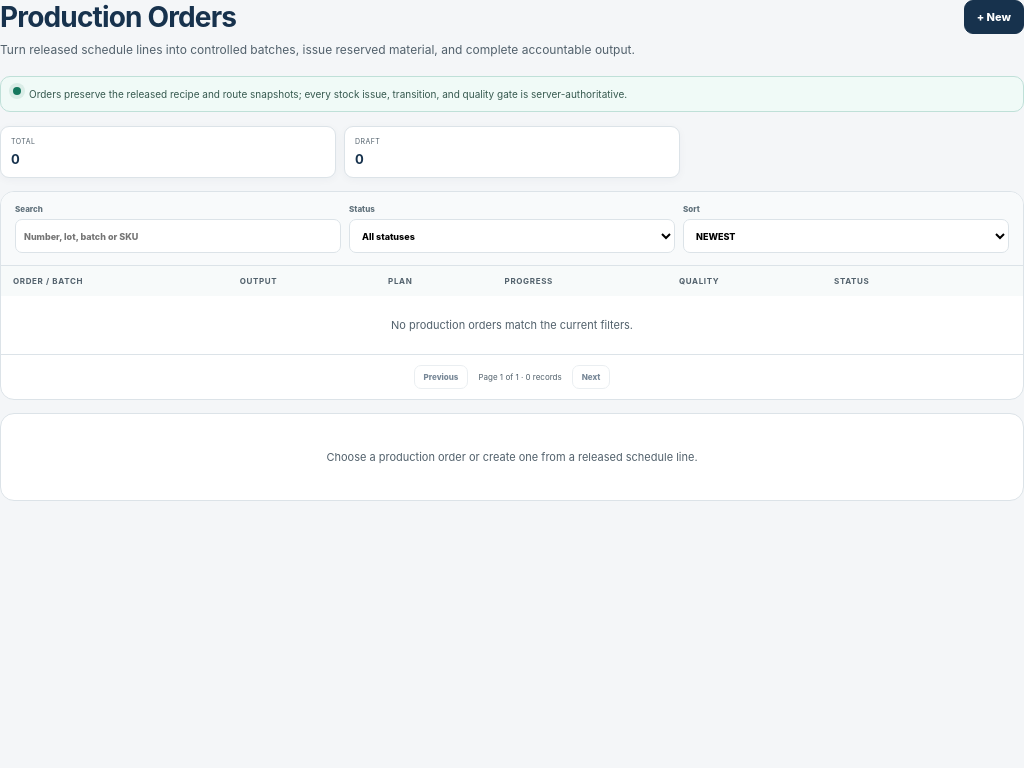
production execution workspaces › creates a scheduled production order and releases it
This screenshot has width=1024, height=768.
Click the button "+ New". click: (994, 17)
box: 964,0 -> 1023,34
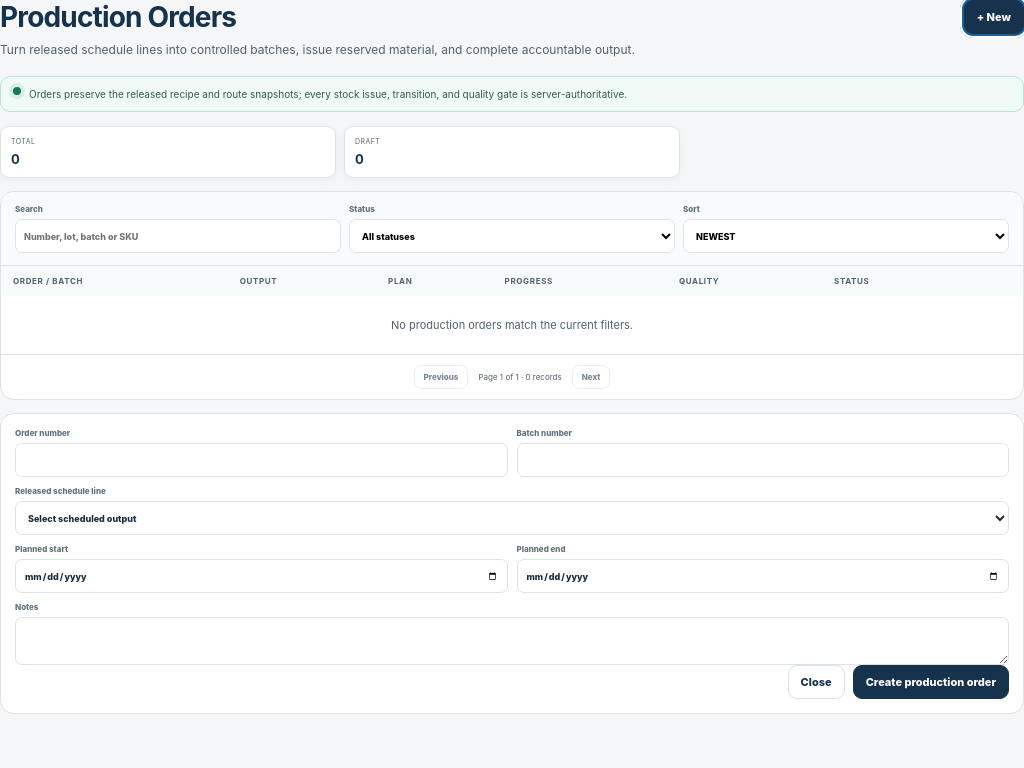
Type "pro-ui-001" into the field labelled "Order number". click: (261, 460)
box: 15,443 -> 508,477
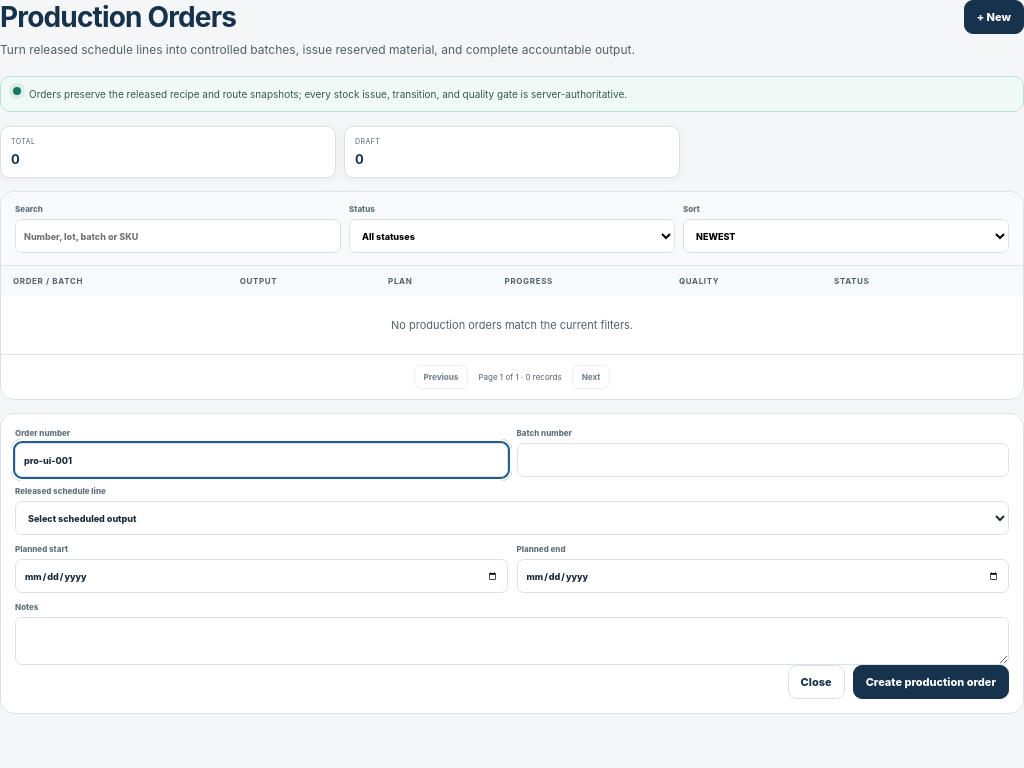
Type "batch-ui-001" into the field labelled "Batch number". click: (763, 460)
box: 516,443 -> 1009,477
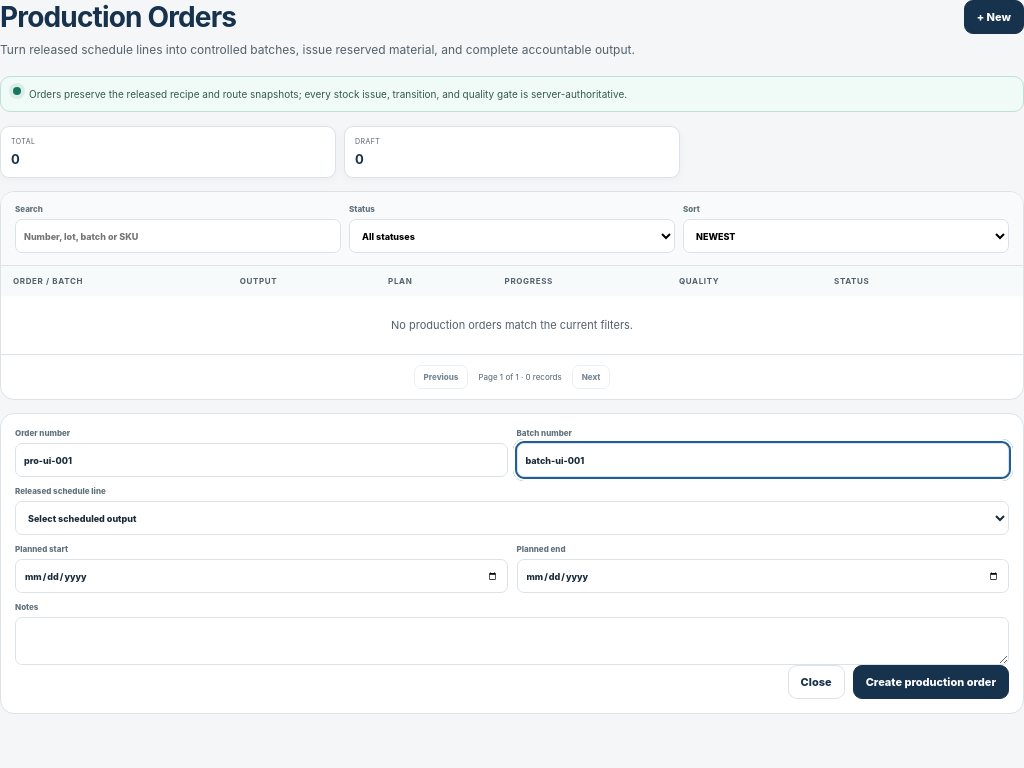
Select "SCH-UI-001/1 · SKU-APPLE-100 · 100 PACK" in the dropdown labelled "Released schedule line". click: (512, 518)
box: 15,501 -> 1009,535
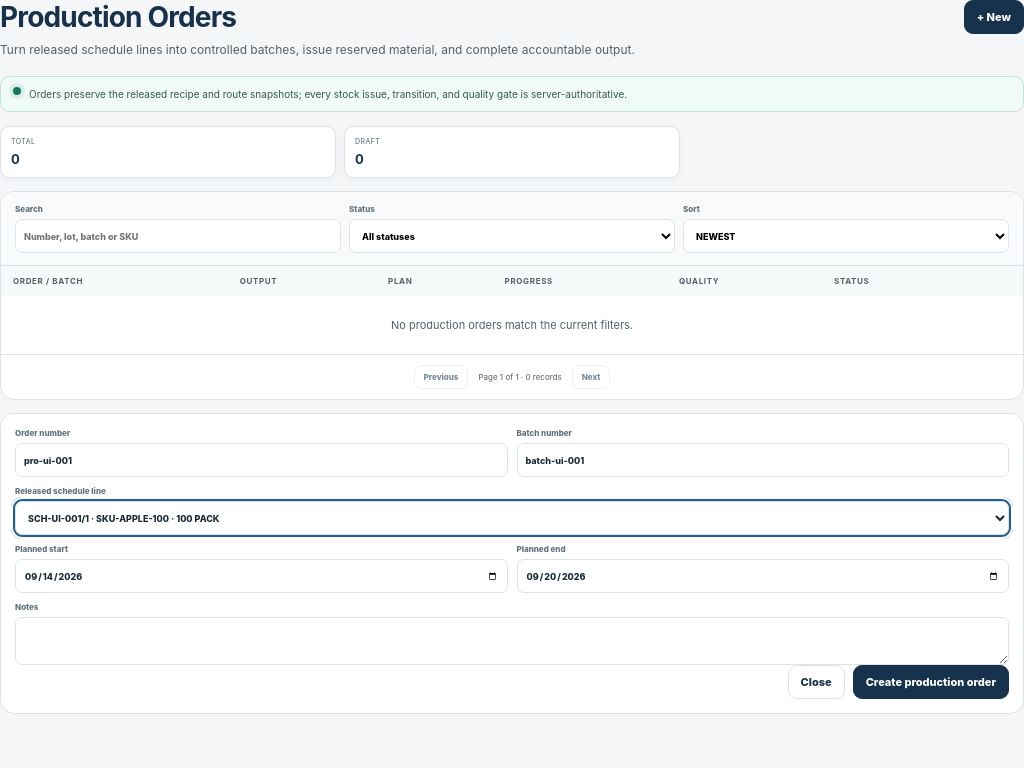
Click the button "Create production order". click: (931, 682)
box: 853,665 -> 1009,699
(page scrolled)
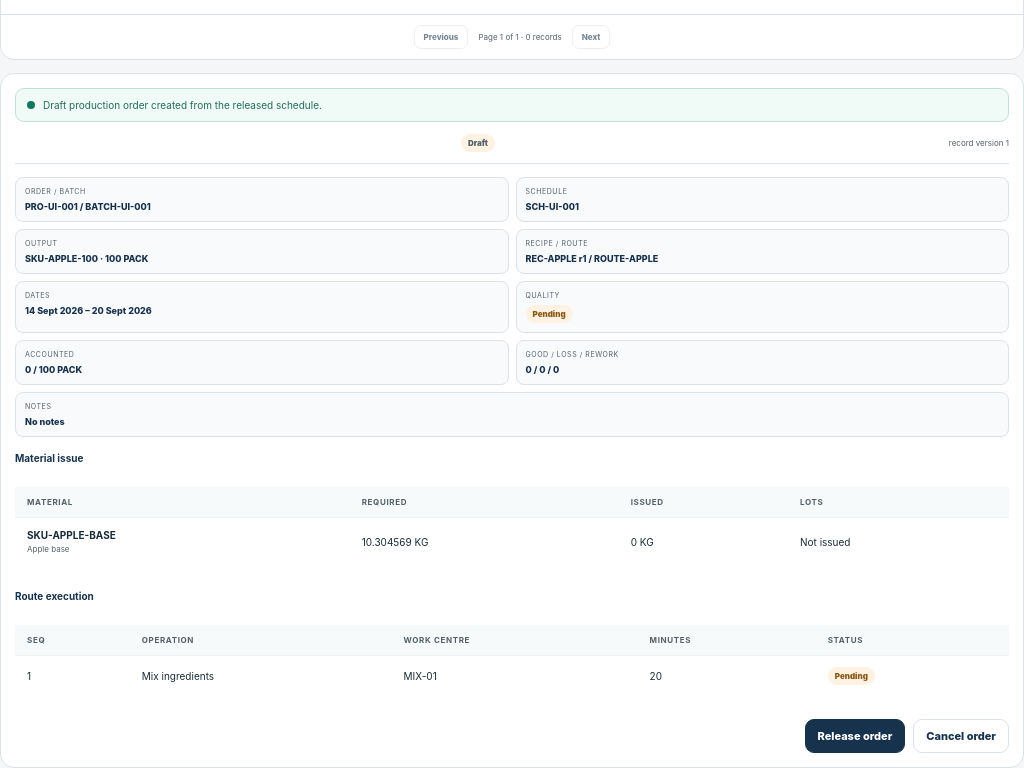
Click the button "Release order". click: (855, 736)
box: 804,719 -> 905,753
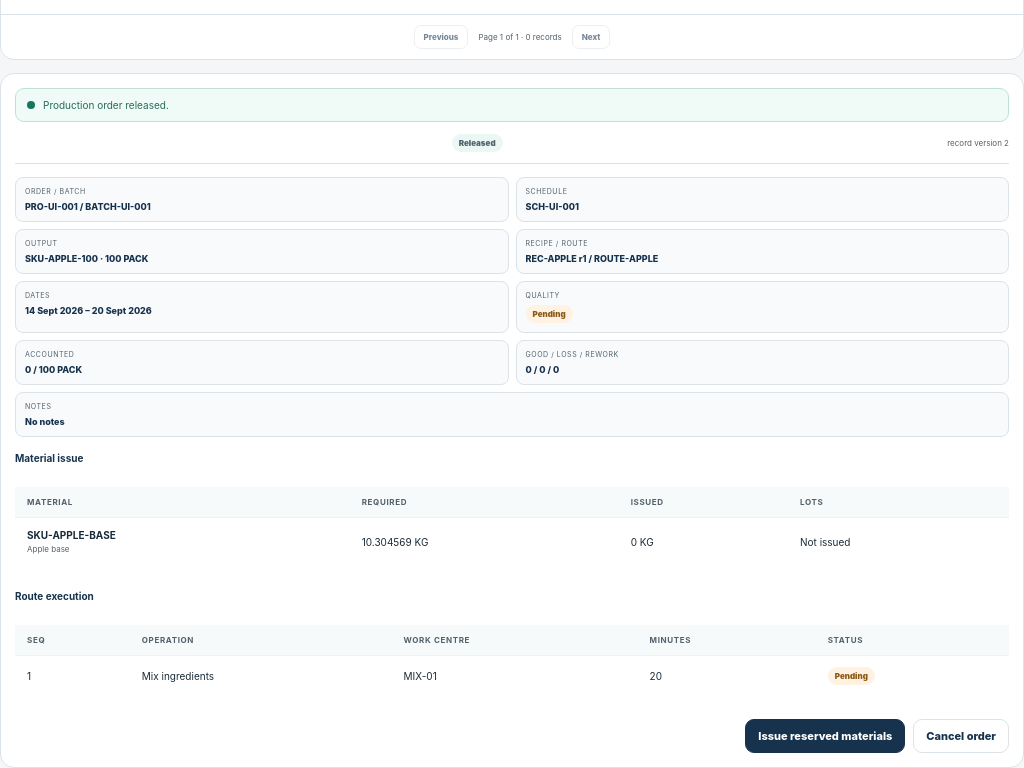
Check: the text "Production order released." is shown, box 15,88 -> 1009,122
